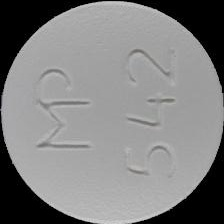63739-416: (0, 0, 224, 224)
